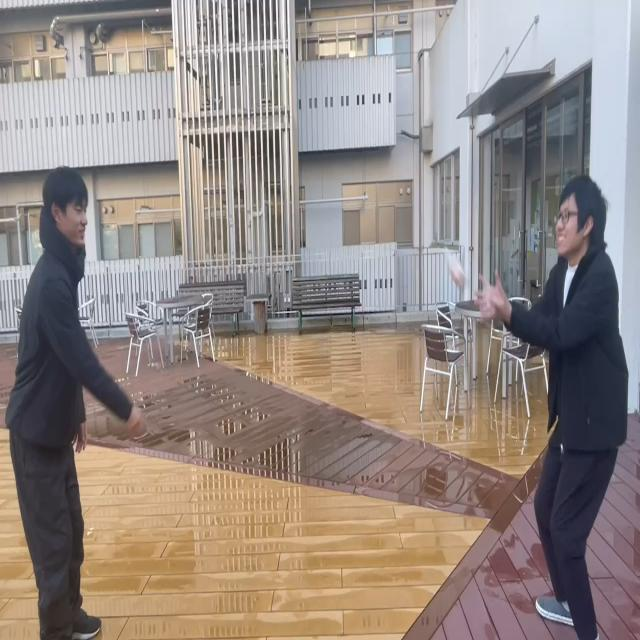bottle: (444, 252, 468, 292)
